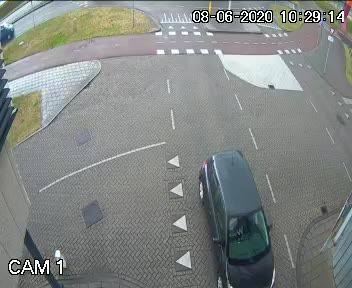car: (166, 127, 300, 288)
